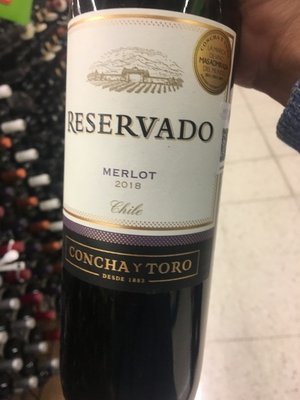reservado merlot: (55, 1, 255, 374)
